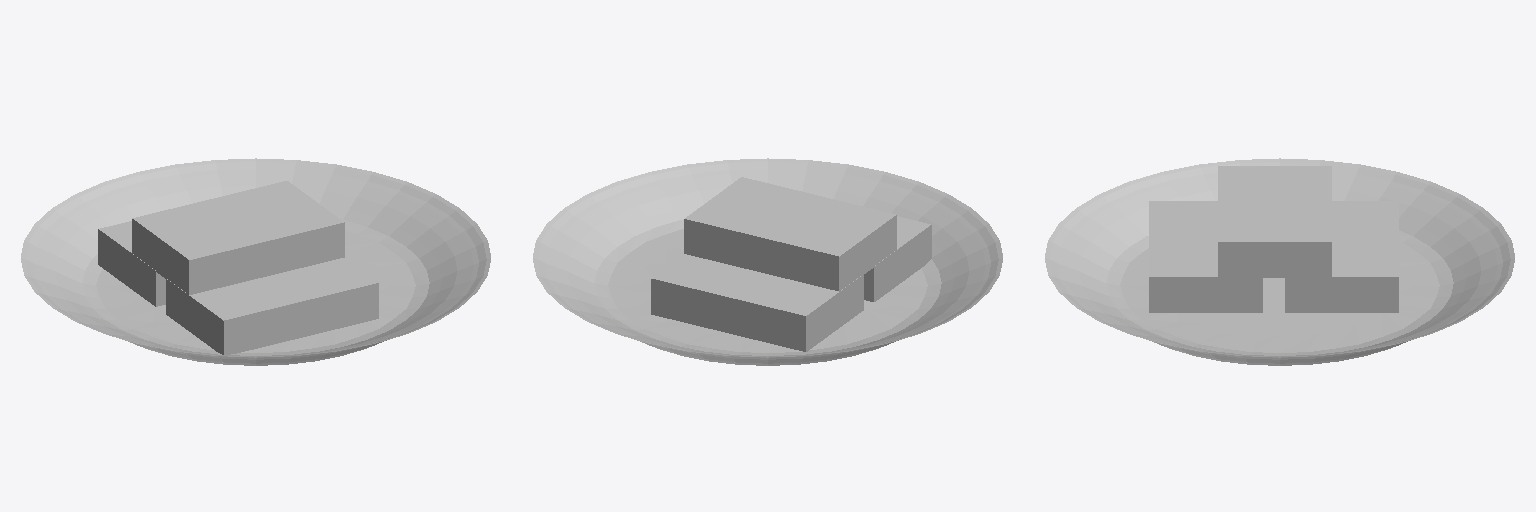
File: koya ijo.obj
The picture shows the model from 3 angles: view 1: azimuth 30°, elevation 25°; view 2: azimuth 150°, elevation 25°; view 3: azimuth 270°, elevation 25°; orthographic projection.
Parts seen in each view (by area): view 1: Cylinder, Cube.002, Cube, Cube.001; view 2: Cylinder, Cube.002, Cube.001, Cube; view 3: Cylinder, Cube.002, Cube, Cube.001.
Part boxes in pixels (left/top/right/bottom): Cylinder: left=21, top=158, right=490, bottom=365; Cube.002: left=132, top=181, right=344, bottom=294; Cube: left=166, top=258, right=378, bottom=354; Cube.001: left=98, top=221, right=165, bottom=306; Cylinder: left=533, top=158, right=1002, bottom=365; Cube.002: left=684, top=177, right=896, bottom=291; Cube.001: left=651, top=254, right=863, bottom=351; Cube: left=864, top=216, right=931, bottom=301; Cylinder: left=1045, top=158, right=1514, bottom=365; Cube.002: left=1218, top=166, right=1331, bottom=277; Cube: left=1149, top=201, right=1262, bottom=312; Cube.001: left=1285, top=201, right=1398, bottom=312.
Size of the model in its own units: 2.31 by 0.4575 by 2.31.